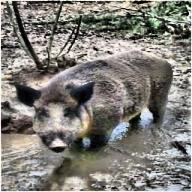boar: (14, 48, 172, 154)
